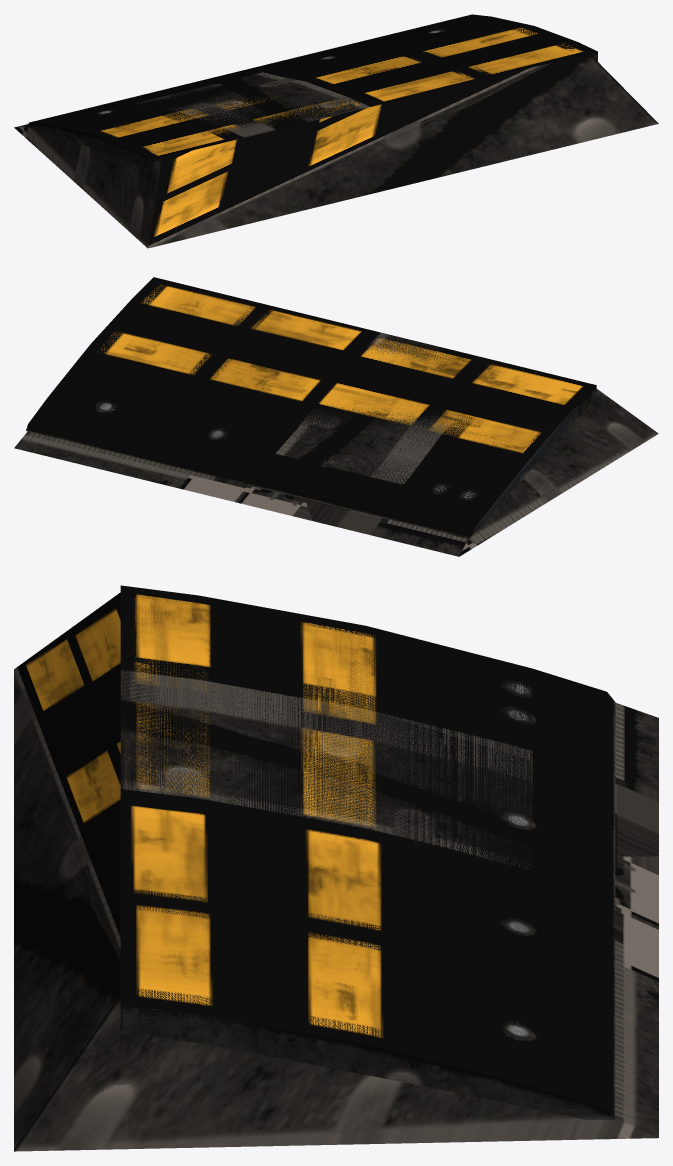
The model's file is curbramp.dae.
The picture shows the model from 3 angles, top to bottom: view 1: azimuth 30°, elevation 25°; view 2: azimuth 150°, elevation 25°; view 3: azimuth 270°, elevation 25°; orthographic projection. The views are drawn at different scales.
Visible parts, largest first — view 1: Colmesh-1, curbramp_a050, curbramp_a010; view 2: curbramp_a050, Colmesh-1, curbramp_a010; view 3: Colmesh-1, curbramp_a050, curbramp_a010.
Boxes of the visible parts, bbox=[...] form: Colmesh-1: bbox=[14, 18, 658, 248]; curbramp_a050: bbox=[27, 14, 597, 171]; curbramp_a010: bbox=[27, 52, 595, 170]; curbramp_a050: bbox=[26, 277, 596, 538]; Colmesh-1: bbox=[14, 279, 658, 556]; curbramp_a010: bbox=[470, 387, 596, 537]; Colmesh-1: bbox=[14, 592, 658, 1151]; curbramp_a050: bbox=[120, 585, 615, 1119]; curbramp_a010: bbox=[120, 1004, 612, 1119].
Bounding box in the file's own units: 1.15 × 0.6521 × 0.1497.
